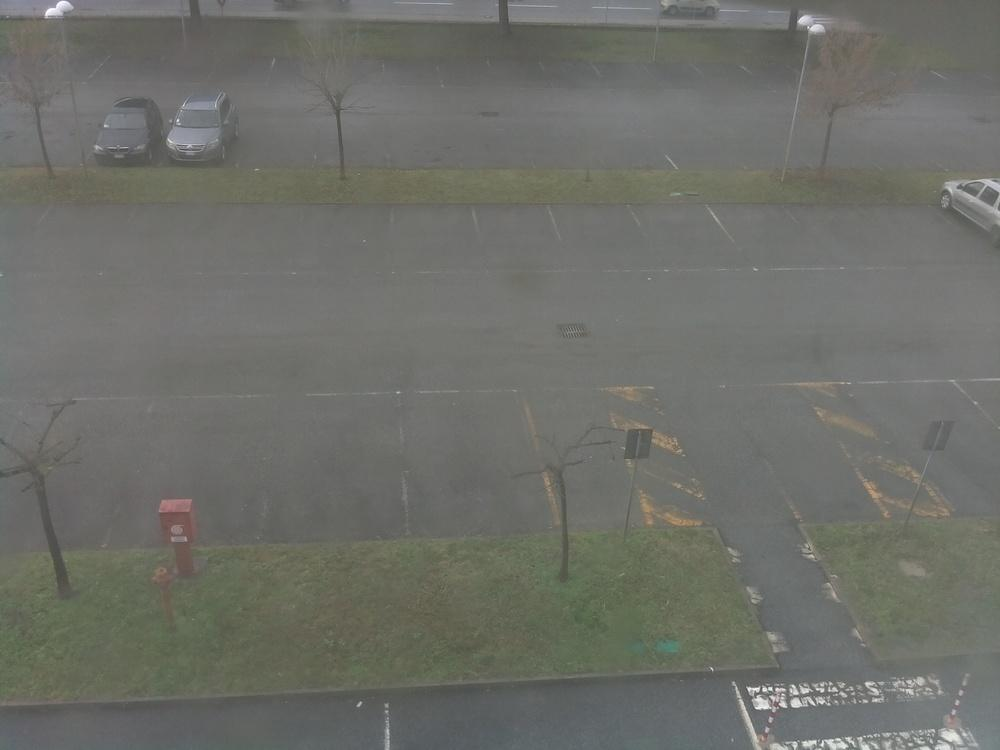empty: (157, 95, 242, 165), (82, 102, 168, 169), (938, 178, 999, 246)
occupied: (391, 380, 551, 546), (272, 388, 409, 549), (12, 398, 141, 560), (140, 392, 264, 554), (900, 393, 1000, 526), (38, 199, 152, 266), (490, 110, 591, 180), (670, 120, 773, 177), (321, 111, 408, 172), (129, 199, 226, 253), (586, 121, 679, 176), (241, 107, 321, 170), (407, 111, 488, 172), (212, 200, 302, 250), (827, 200, 916, 249), (858, 129, 940, 174), (299, 202, 392, 239), (0, 110, 56, 168), (393, 207, 472, 244), (480, 208, 549, 247), (430, 52, 494, 91), (379, 52, 443, 91), (562, 210, 634, 244), (537, 44, 599, 83), (645, 213, 714, 245), (490, 50, 547, 86), (728, 211, 794, 242)
